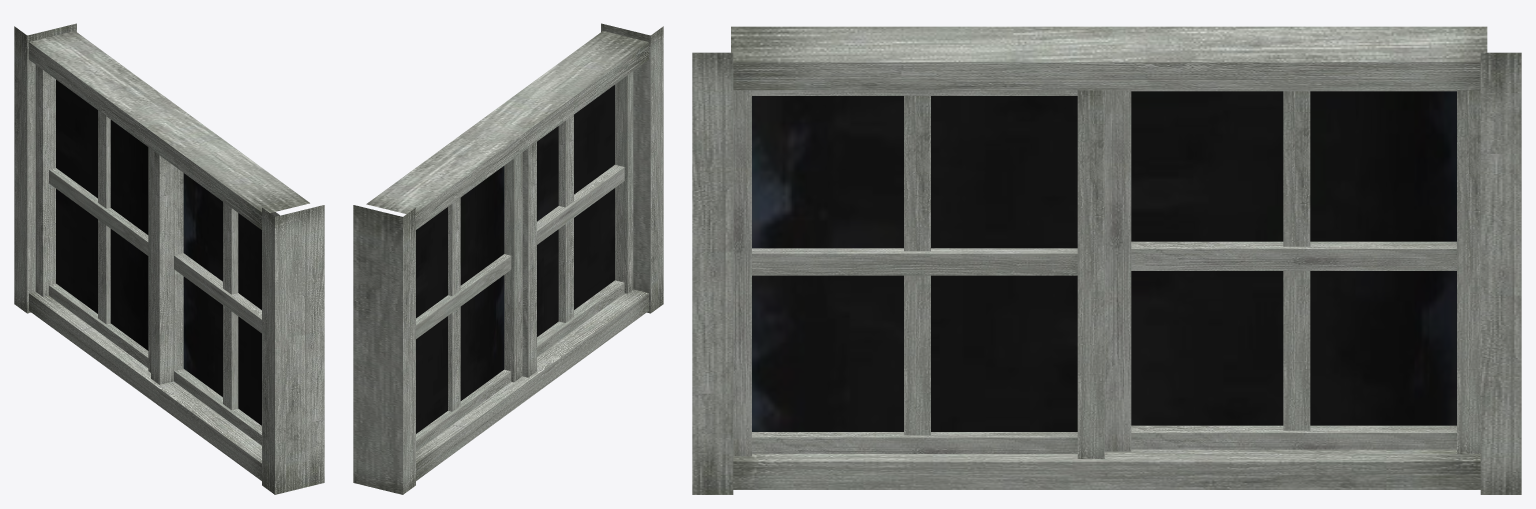
Rendered from caen_window_white_clean_2.glb.
3 views of the same model, side by side, from view 1: azimuth 30°, elevation 25°; view 2: azimuth 150°, elevation 25°; view 3: azimuth 270°, elevation 25° (orthographic). The views are drawn at different scales.
Size of the model in its own units: 7.98 by 42.72 by 72.59.
1 material, 1 textured.
